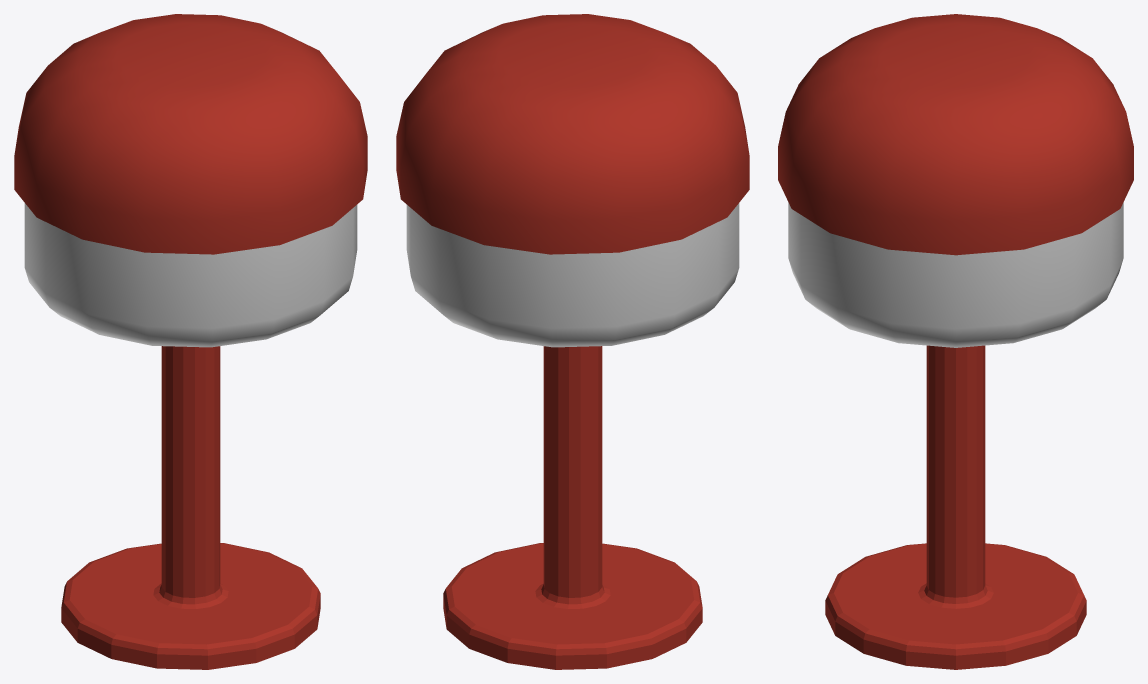
File: model-lamp.glb
3 views of the same model, side by side, from view 1: azimuth 30°, elevation 25°; view 2: azimuth 150°, elevation 25°; view 3: azimuth 270°, elevation 25° (orthographic).
Parts seen in each view (by area): view 1: lamp-top, lamp-bottom, lamp-light; view 2: lamp-top, lamp-bottom, lamp-light; view 3: lamp-top, lamp-bottom, lamp-light.
Part boxes in pixels (<box>): lamp-top: <box>14,14,367,254</box>; lamp-bottom: <box>61,346,320,669</box>; lamp-light: <box>24,203,357,347</box>; lamp-top: <box>396,14,749,254</box>; lamp-bottom: <box>443,346,702,669</box>; lamp-light: <box>406,203,739,347</box>; lamp-top: <box>778,14,1133,255</box>; lamp-bottom: <box>825,345,1086,669</box>; lamp-light: <box>788,202,1123,347</box>.
Size of the model in its own units: 0.2129 by 0.3691 by 0.2129.
